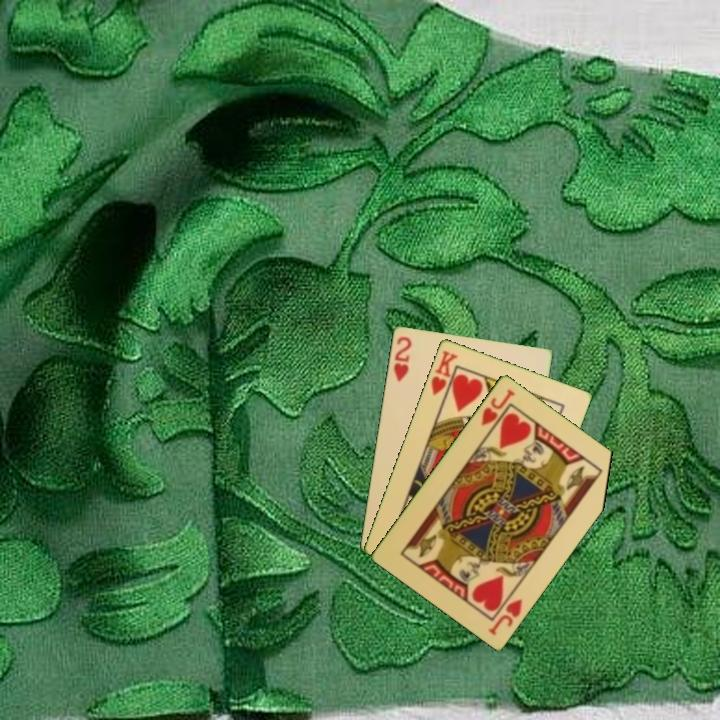2h: (389, 333, 414, 385)
Jh: (477, 385, 518, 437), (484, 595, 525, 638)
Kh: (427, 347, 460, 404)
